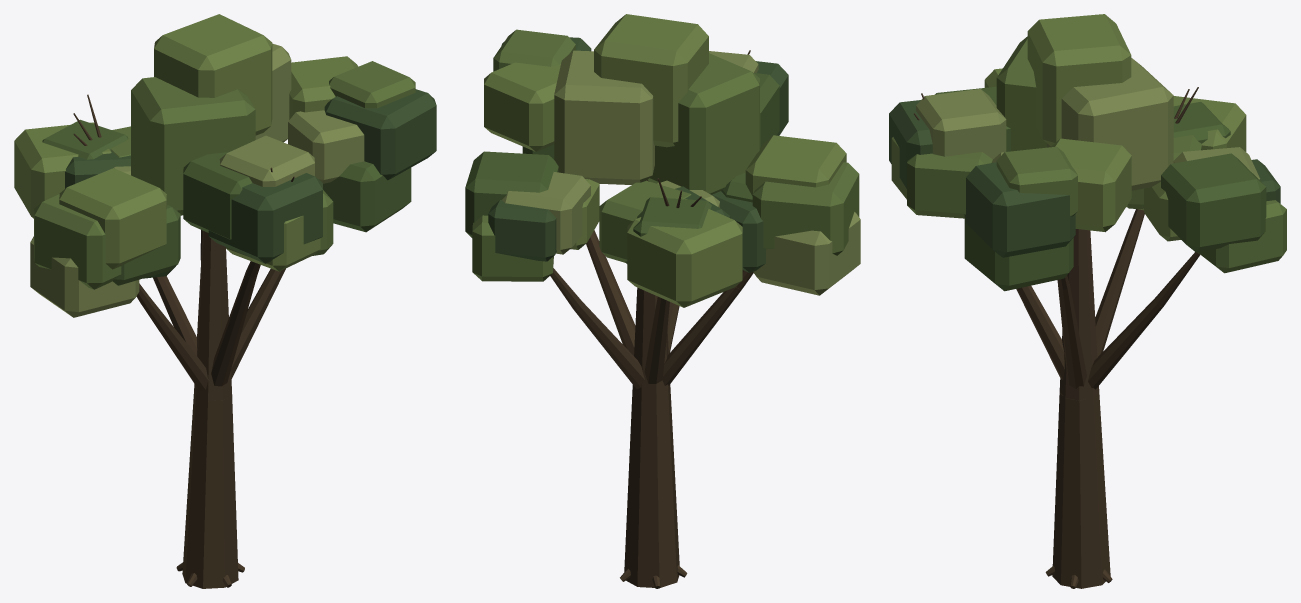
File: oak_sapling_spring.glb
3 views of the same model, side by side, from view 1: azimuth 30°, elevation 25°; view 2: azimuth 150°, elevation 25°; view 3: azimuth 270°, elevation 25° (orthographic).
Visible parts, largest first — view 1: oak_sapling_spring; view 2: oak_sapling_spring; view 3: oak_sapling_spring.
Boxes of the visible parts, x1,y1,x2,y2 form: oak_sapling_spring: (14, 14, 436, 588); oak_sapling_spring: (465, 14, 860, 588); oak_sapling_spring: (889, 14, 1286, 588).
Size of the model in its own units: 5.01 by 7 by 4.63.
